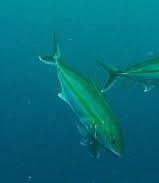hamati: (36, 27, 133, 163)
